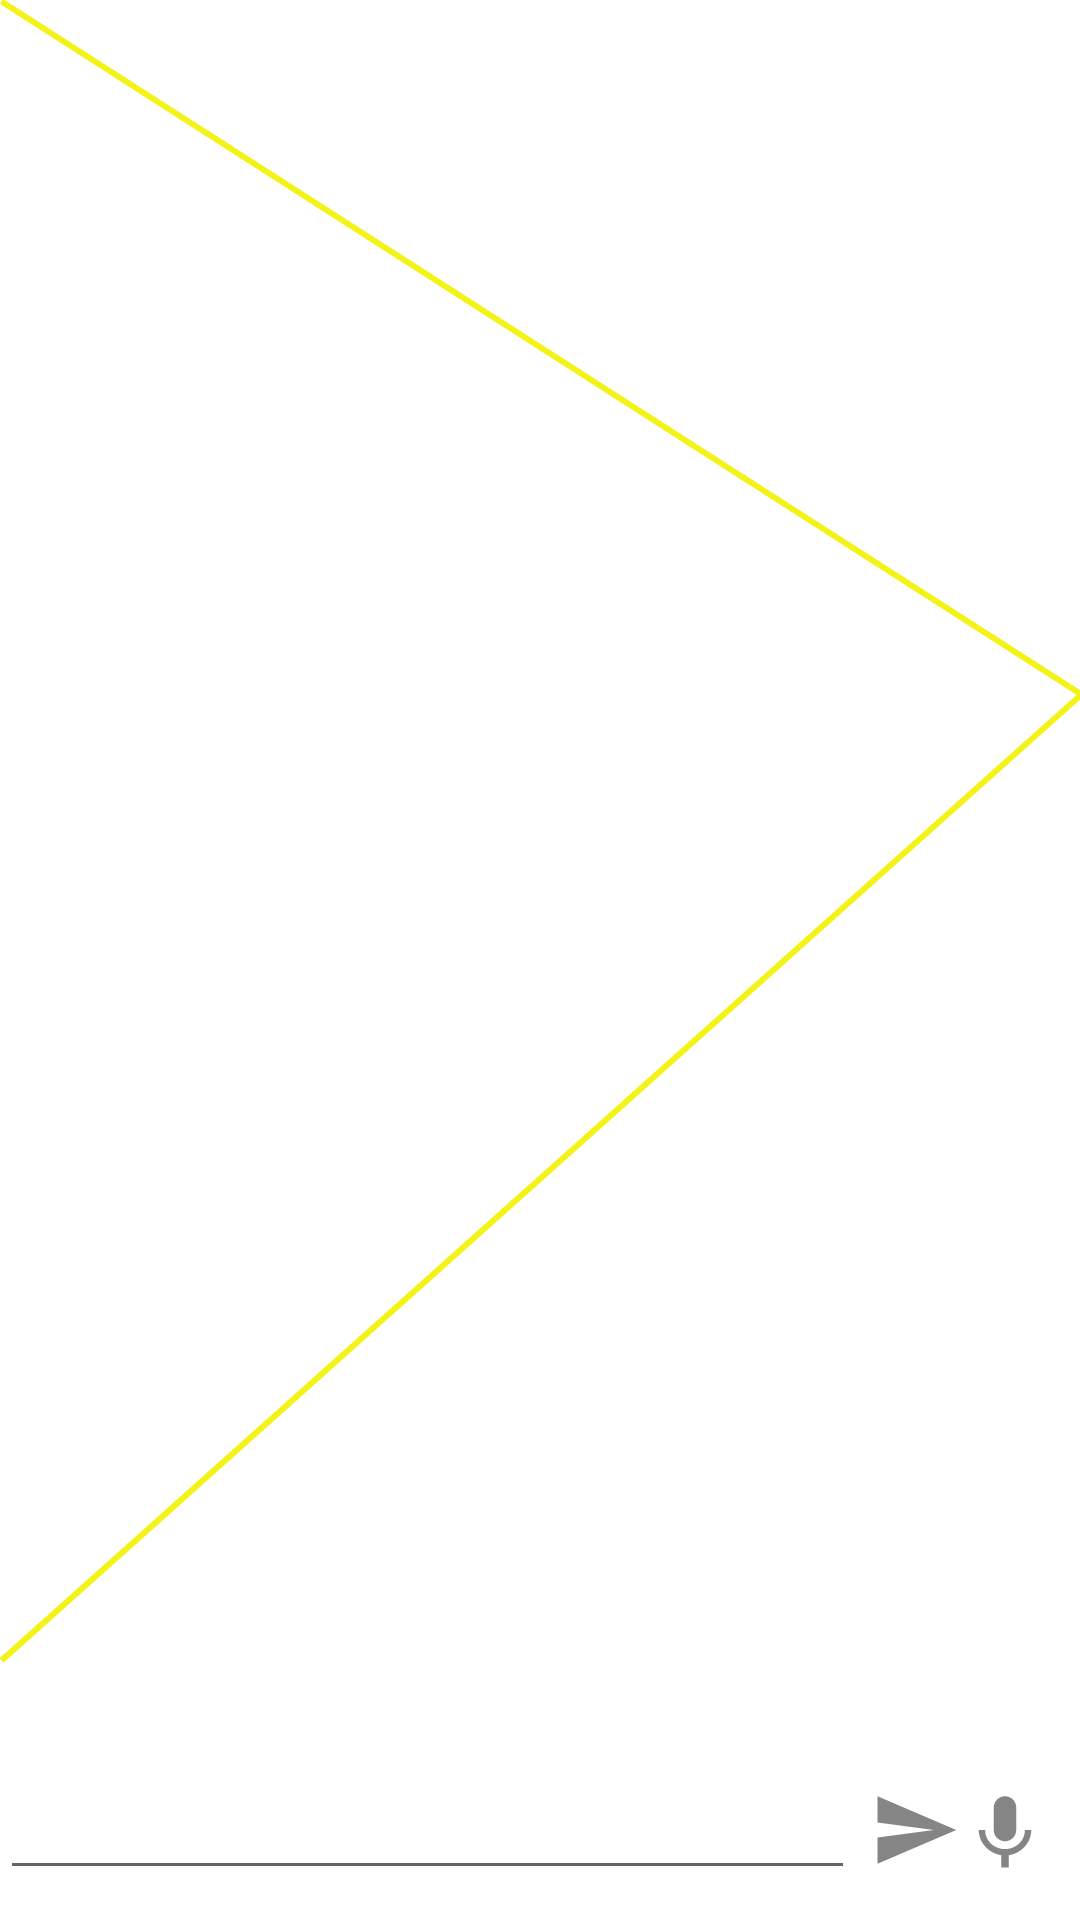

Named icons in this screenshot (1080 × 1920) and their bounding boxes, (x1, y1, x2, y2):
send message: (877, 1796, 956, 1864)
send voice: (978, 1796, 1032, 1868)
